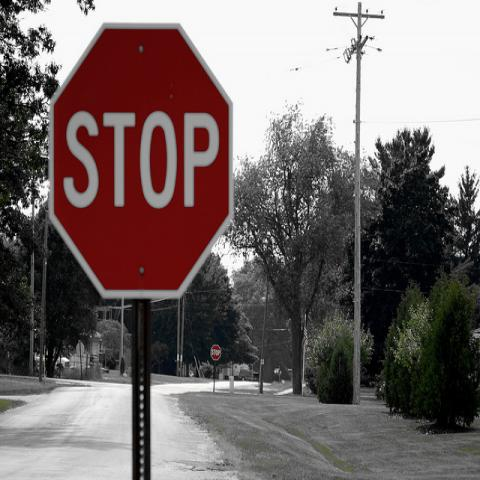car: (33, 351, 71, 374)
